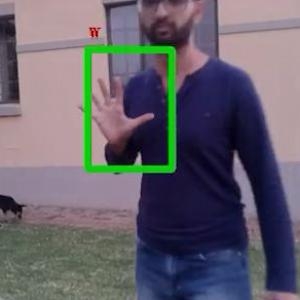follow_hand: (73, 72, 155, 148)
